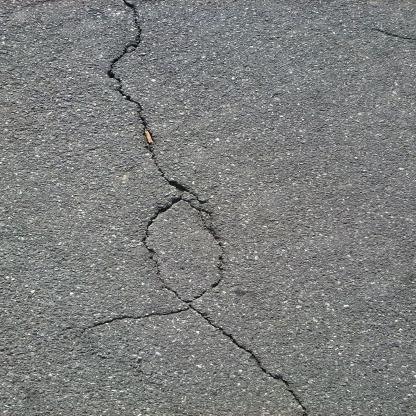Cracks: (84, 1, 317, 416)
